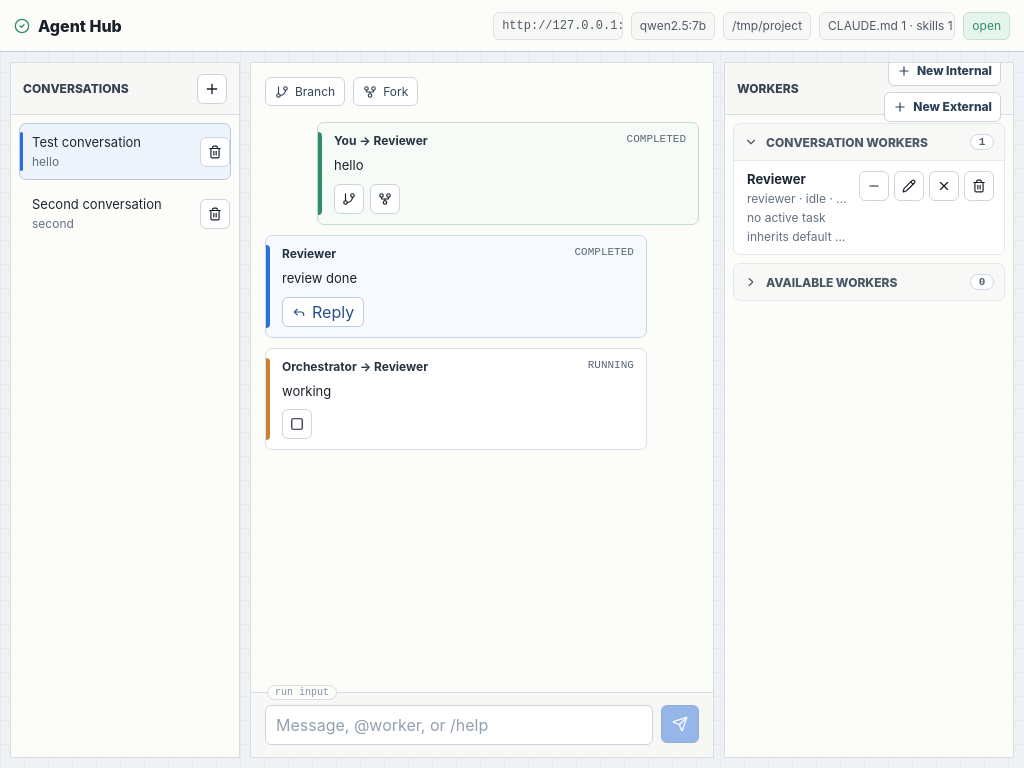
Test: Agent Hub app › restarts the inline reply box when the same reply button is clicked again
Expected: the text "Test conversation" is shown, [32,134,141,150]
Step 1. Click the button titled "Reply to Reviewer" → (323, 312), box [282,296,364,326]
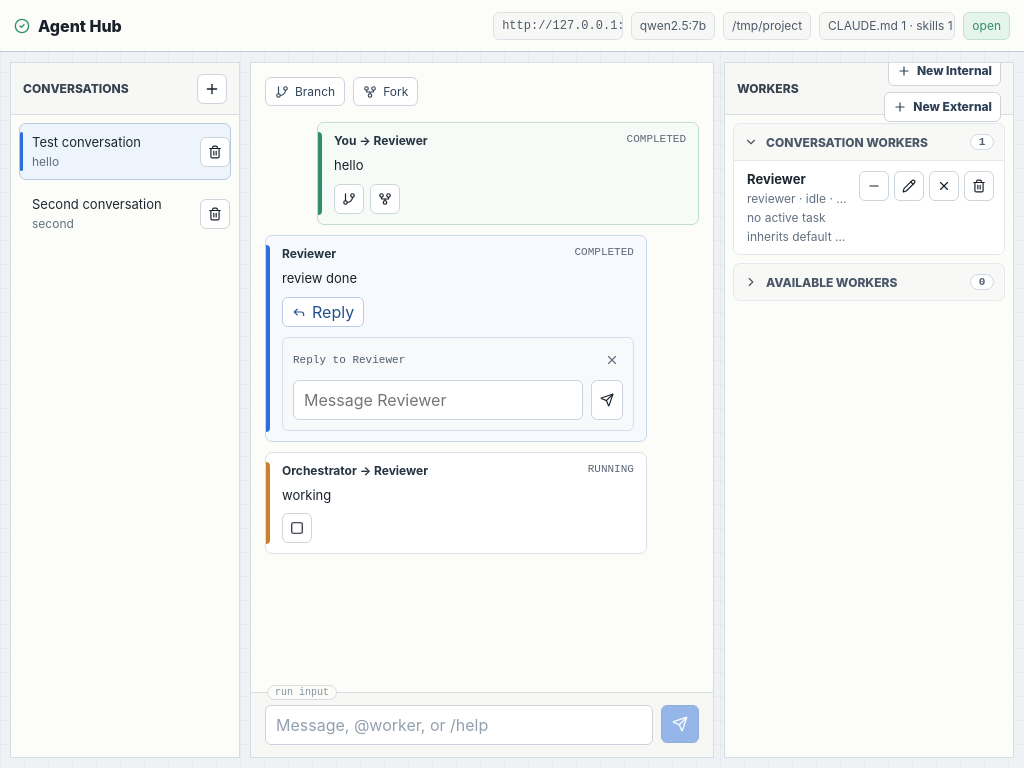
Step 2. Type "unsent text" into the field with placeholder "Message Reviewer" → (438, 400), box [293,380,583,420]
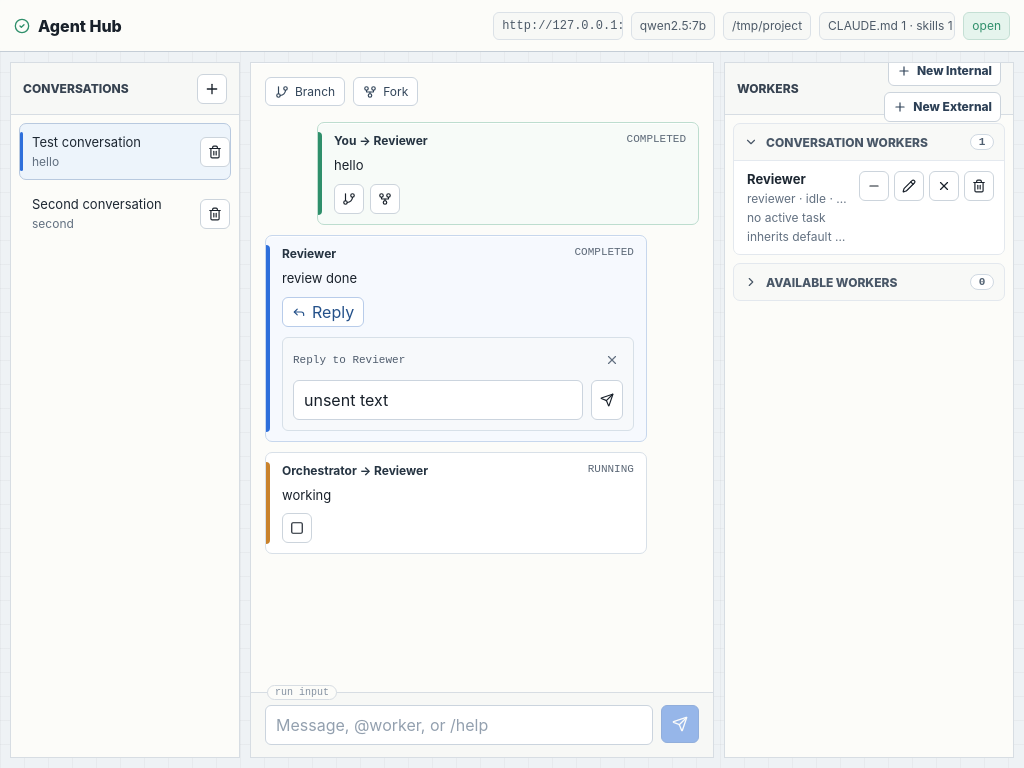
Step 3. Click the button titled "Reply to Reviewer" → (323, 312), box [282,296,364,326]
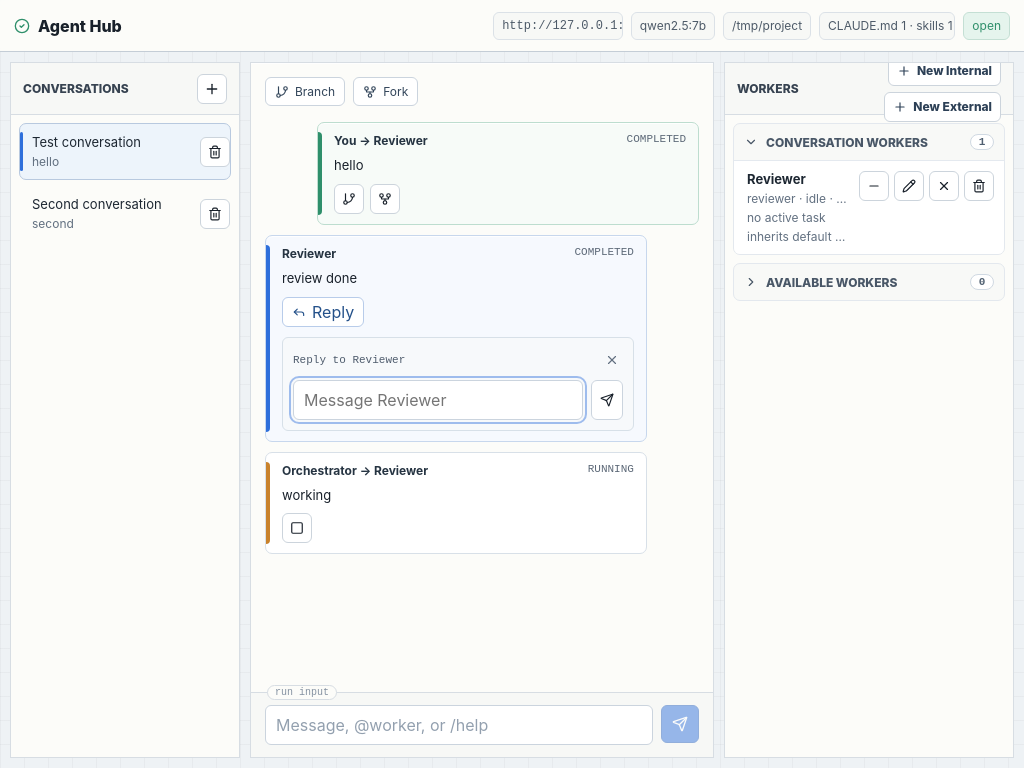
Expected: the text "Reply to Reviewer" is shown, [293,354,405,366]
Expected: the field with placeholder "Message Reviewer" is empty, [293,380,583,420]
